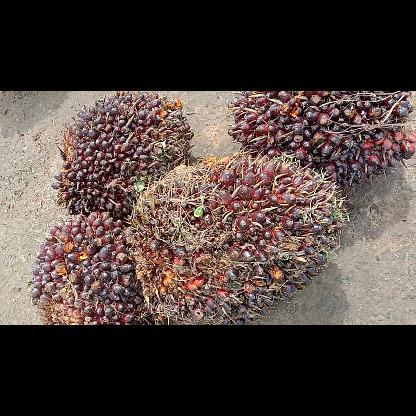Kurang masak: (123, 150, 351, 324), (227, 90, 415, 188), (53, 91, 193, 219), (31, 210, 156, 324)
